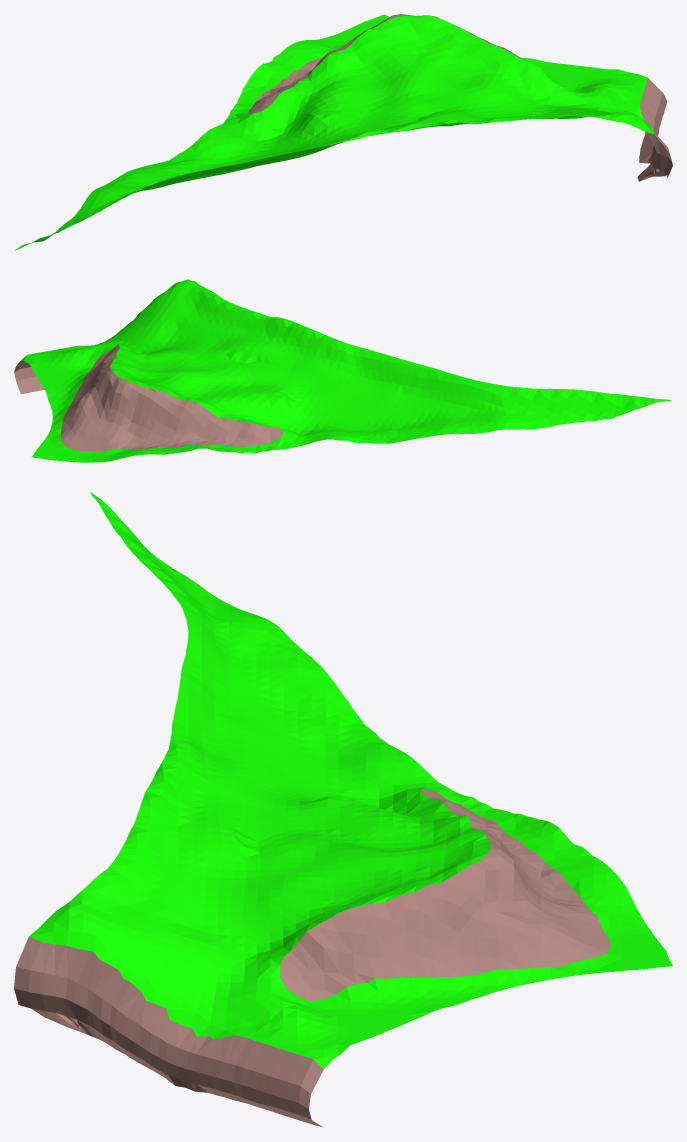
Rendered from col_carisle_mid_landmass_00.fbx.
3 renders of one model, top to bottom at view 1: azimuth 30°, elevation 25°; view 2: azimuth 150°, elevation 25°; view 3: azimuth 270°, elevation 25°, orthographic. The views are drawn at different scales.
Parts seen in each view (by area): view 1: col_carisle_mid_landmass_00; view 2: col_carisle_mid_landmass_00; view 3: col_carisle_mid_landmass_00.
Part boxes in pixels (x1,y1,x2,y2): col_carisle_mid_landmass_00: [15, 14, 672, 250]; col_carisle_mid_landmass_00: [14, 279, 671, 462]; col_carisle_mid_landmass_00: [14, 492, 672, 1126].
Bounding box in the file's own units: 198 × 111 × 28.54.
